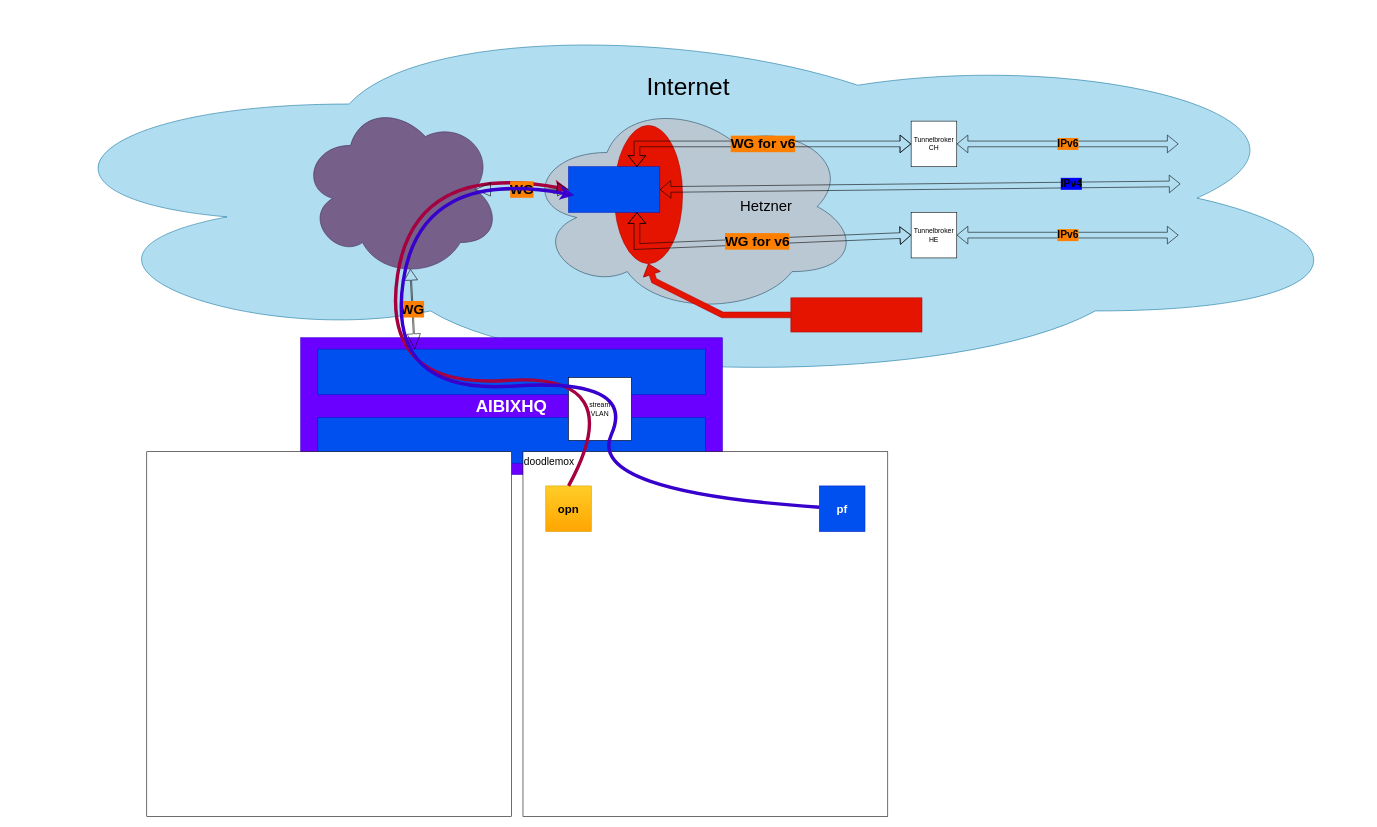
The diagram is 1377 pixels wide and 827 high, and some of its shapes have lost their labels. Here are the shapes that lost their labels. From the top down, the centre of each, then its label:
(x=400, y=189): obscure network
(x=614, y=189): streamfw (pfSense)
(x=856, y=314): sichtbare IP Adressen
(x=329, y=634): minismox
